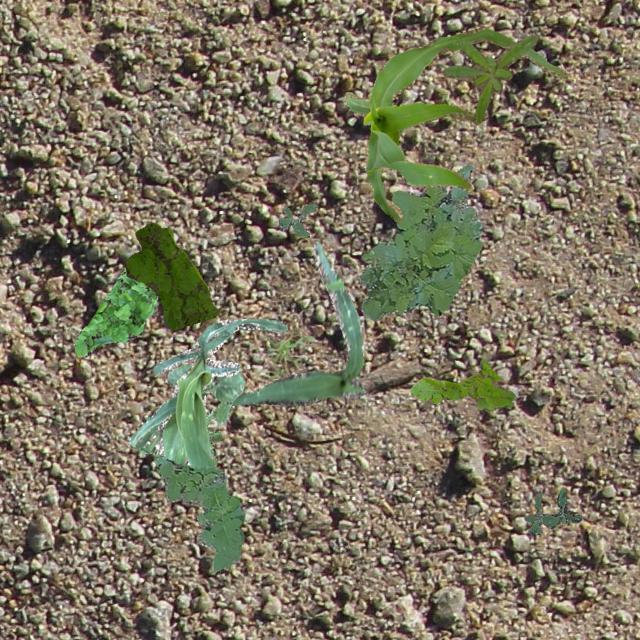crop: (344, 27, 566, 222), (126, 318, 286, 468), (230, 240, 364, 404), (166, 363, 244, 402)
weed: (358, 163, 482, 320), (152, 454, 244, 570), (124, 222, 218, 328), (441, 34, 537, 124), (74, 268, 156, 356), (408, 358, 514, 409), (150, 402, 232, 464), (524, 486, 580, 534), (264, 329, 314, 376), (278, 203, 316, 237)
